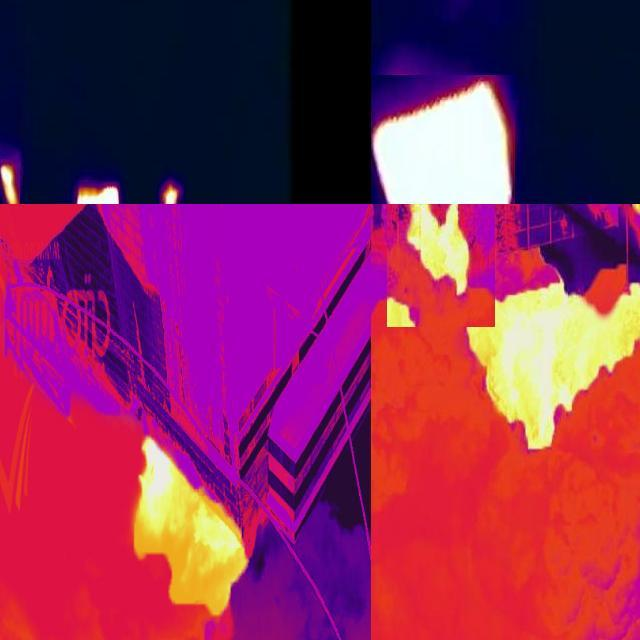fire: (464, 281, 640, 449), (131, 439, 252, 620), (372, 75, 515, 205), (387, 204, 473, 327), (76, 182, 120, 205), (1, 159, 20, 205), (160, 181, 180, 205)
